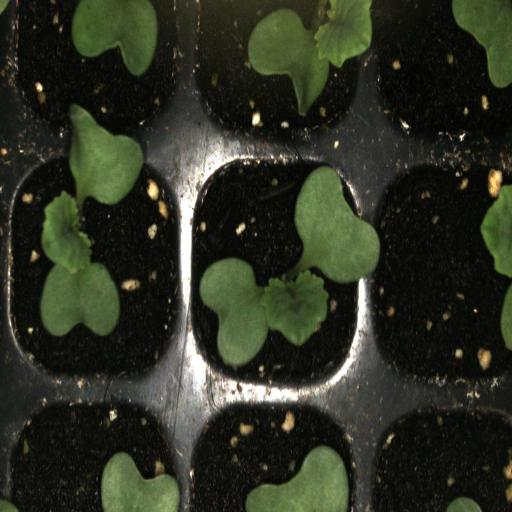Folha: (245, 445, 349, 512), (72, 0, 159, 76), (452, 0, 512, 88), (101, 452, 182, 512), (480, 184, 512, 278)
Germinacao: (188, 146, 367, 396), (5, 146, 188, 388), (190, 0, 365, 146)
